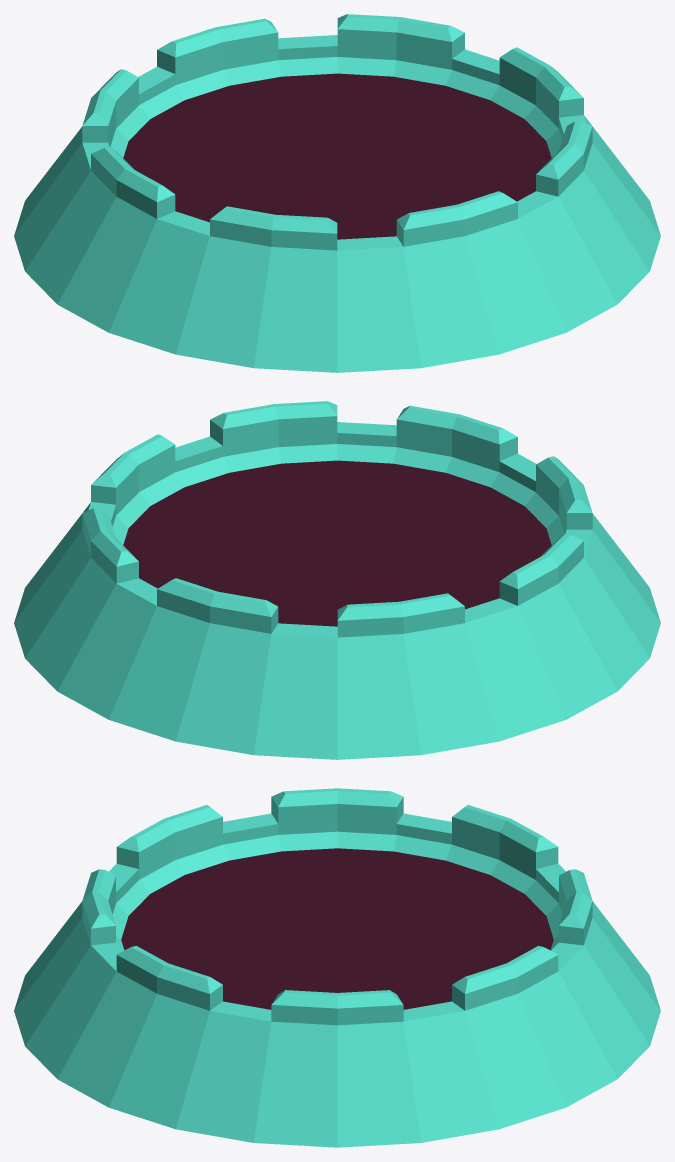
Rendered from jumpPad_PH.fbx.
3 views of the same model, one above another, from view 1: azimuth 30°, elevation 25°; view 2: azimuth 150°, elevation 25°; view 3: azimuth 270°, elevation 25° (orthographic).
Parts seen in each view (by area): view 1: Mesh_JumpPad; view 2: Mesh_JumpPad; view 3: Mesh_JumpPad.
Part boxes in pixels (bbox=[...]): Mesh_JumpPad: bbox=[14, 14, 660, 372]; Mesh_JumpPad: bbox=[14, 401, 660, 759]; Mesh_JumpPad: bbox=[14, 788, 660, 1147].
Size of the model in its own units: 229 by 46.53 by 229.
